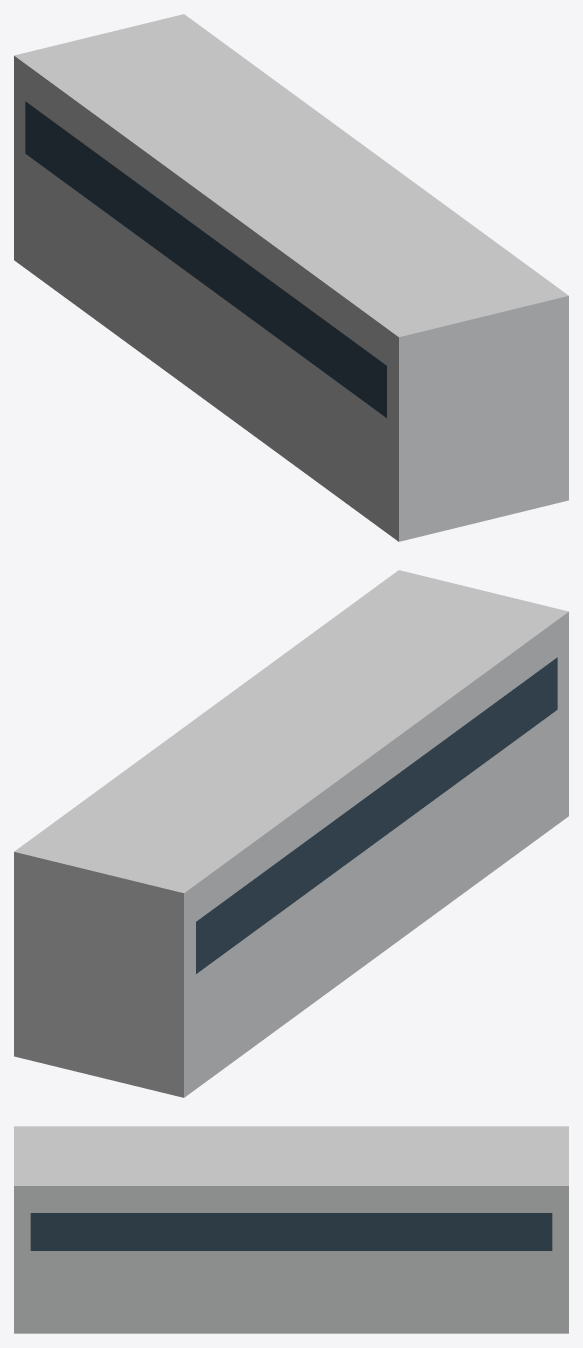
File: middle_far.fbx
The picture shows the model from 3 angles, top to bottom: view 1: azimuth 30°, elevation 25°; view 2: azimuth 150°, elevation 25°; view 3: azimuth 270°, elevation 25°; orthographic projection. The views are drawn at different scales.
Parts seen in each view (by area): view 1: 14_middle_far; view 2: 14_middle_far; view 3: 14_middle_far.
Boxes of the visible parts, box(x1,y1,x2,y2) form: 14_middle_far: box(14, 14, 568, 541); 14_middle_far: box(14, 570, 568, 1097); 14_middle_far: box(14, 1126, 568, 1333).
Bounding box in the file's own units: 2.54 × 2.92 × 9.95.
